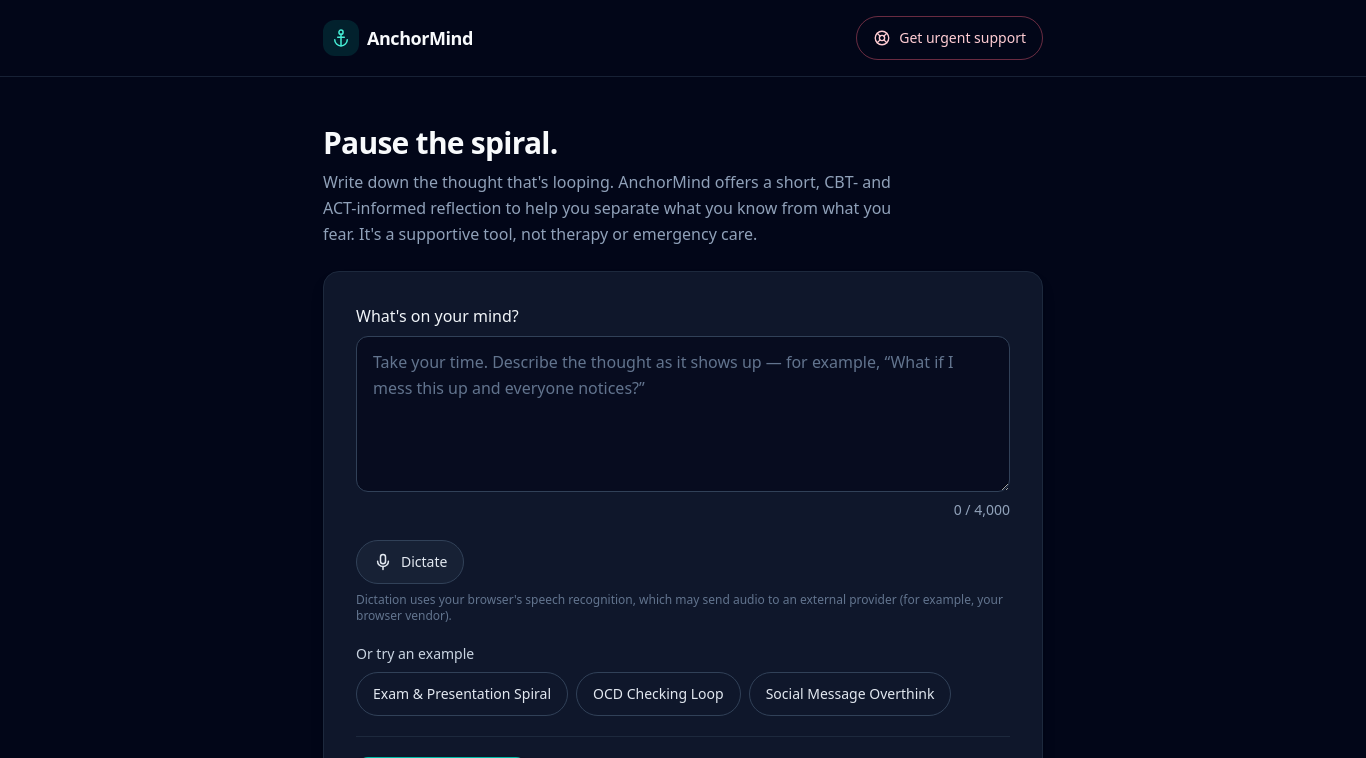
Home page flow › score 8+ opens the breathing gate and hides results until skip
What coordinates should you click on to do the following:
click the button "Exam & Presentation Spiral"
I would click on:
 (462, 694)
Its box is x1=356 y1=672 x2=568 y2=716.
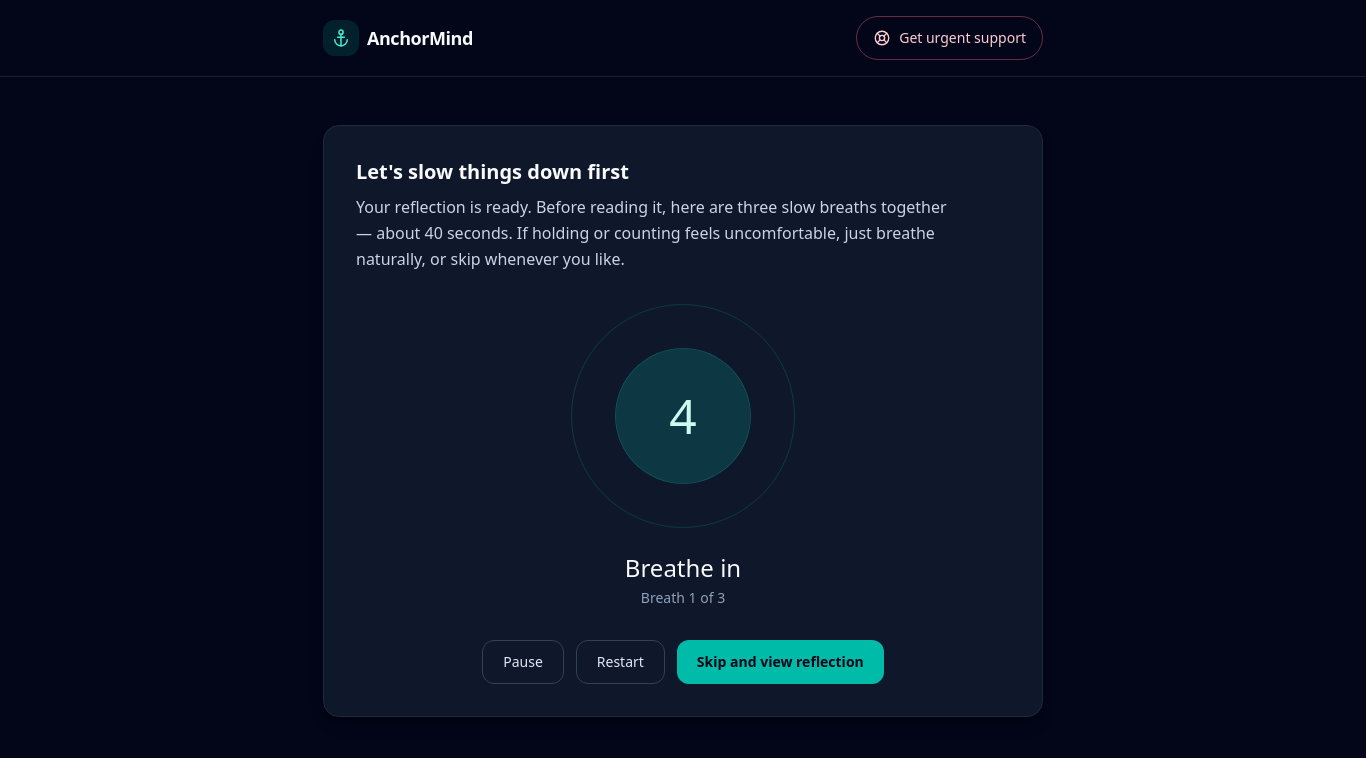
Expected: the text "Possible thought pattern" is not shown
Now the heading "Let's slow things down first" is shown, box x1=356 y1=158 x2=629 y2=185
What coordinates should you click on to do the following:
click the button "Skip and view reflection"
I would click on:
 (780, 662)
Its box is x1=677 y1=640 x2=884 y2=684.
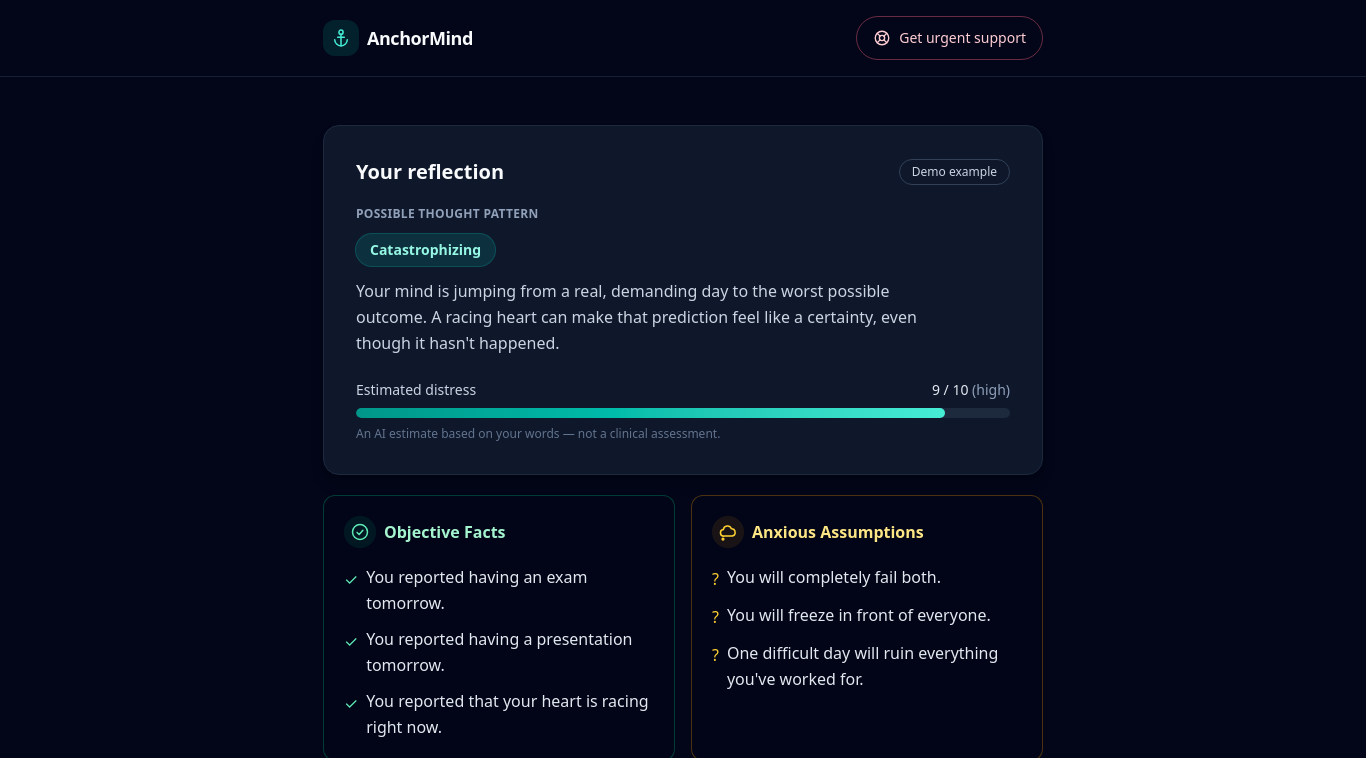
Now the text "Catastrophizing" is shown, box x1=356 y1=234 x2=495 y2=266
